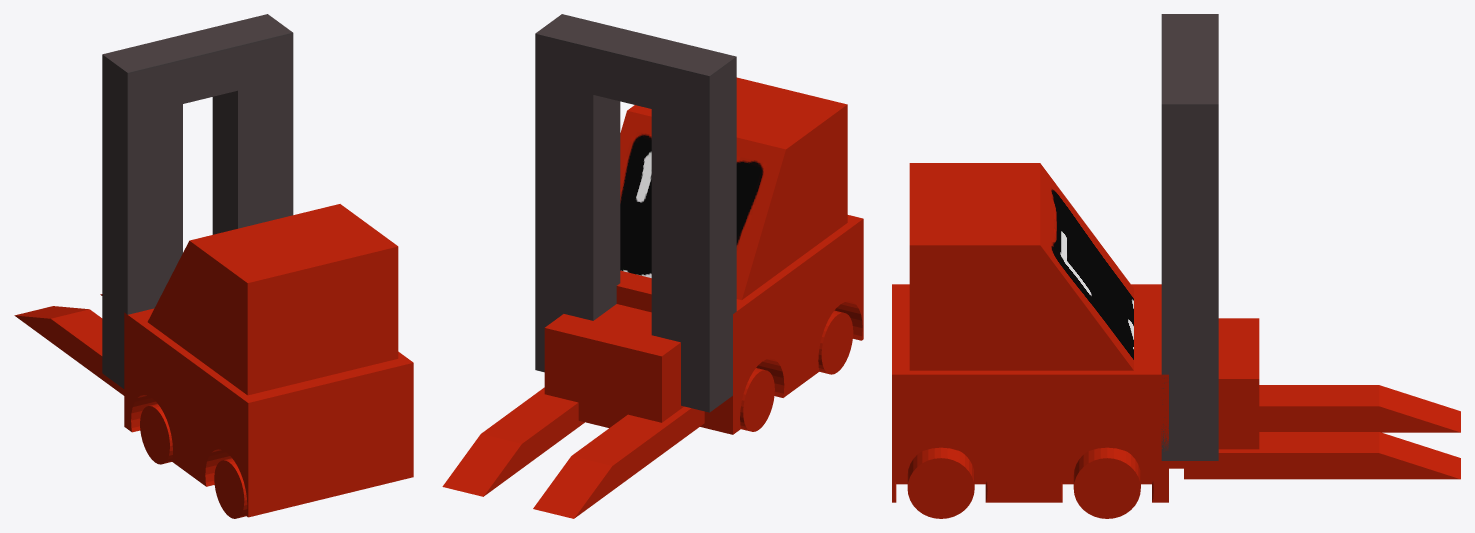
The model's file is Forklift.glb.
The picture shows the model from 3 angles, left to right: view 1: azimuth 30°, elevation 25°; view 2: azimuth 150°, elevation 25°; view 3: azimuth 270°, elevation 25°; orthographic projection. The views are drawn at different scales.
Parts seen in each view (by area): view 1: Cube; view 2: Cube; view 3: Cube.
Part boxes in pixels (x1,y1,x2,y2): Cube: [14, 14, 413, 518]; Cube: [442, 14, 863, 518]; Cube: [892, 14, 1460, 518].
Size of the model in its own units: 1.54 by 3.32 by 4.11.
1 material, 1 textured.
